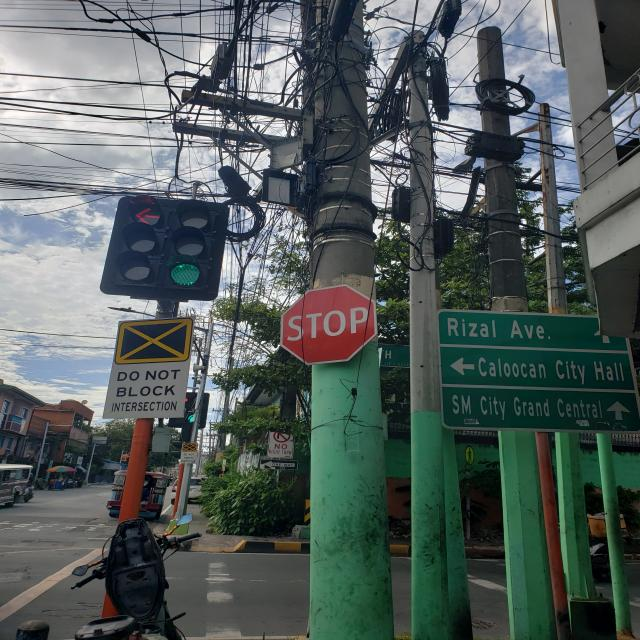stop-sign: (280, 284, 378, 366)
